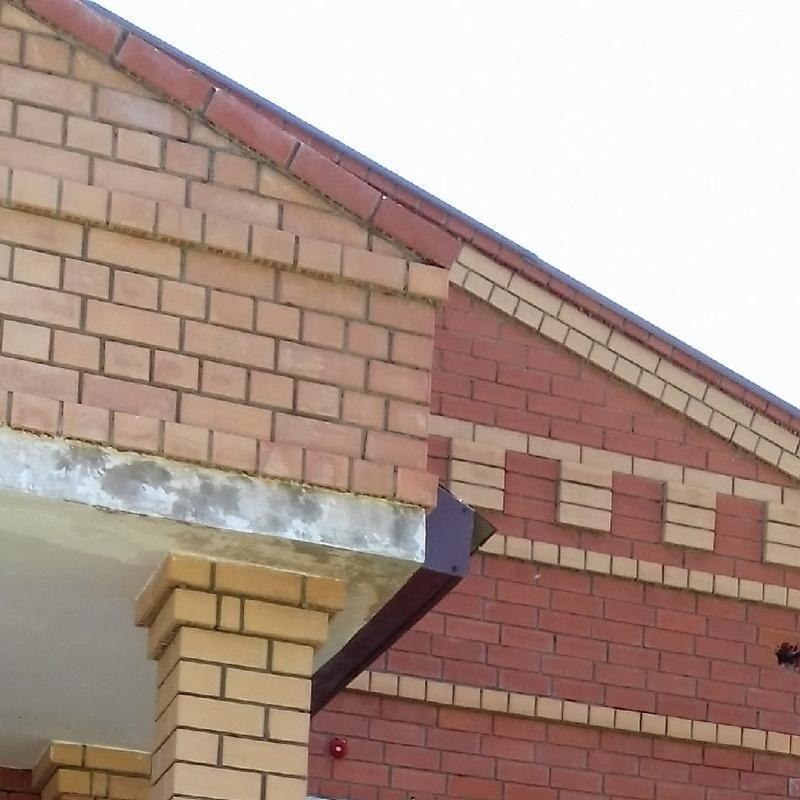crack: (777, 644, 799, 667)
